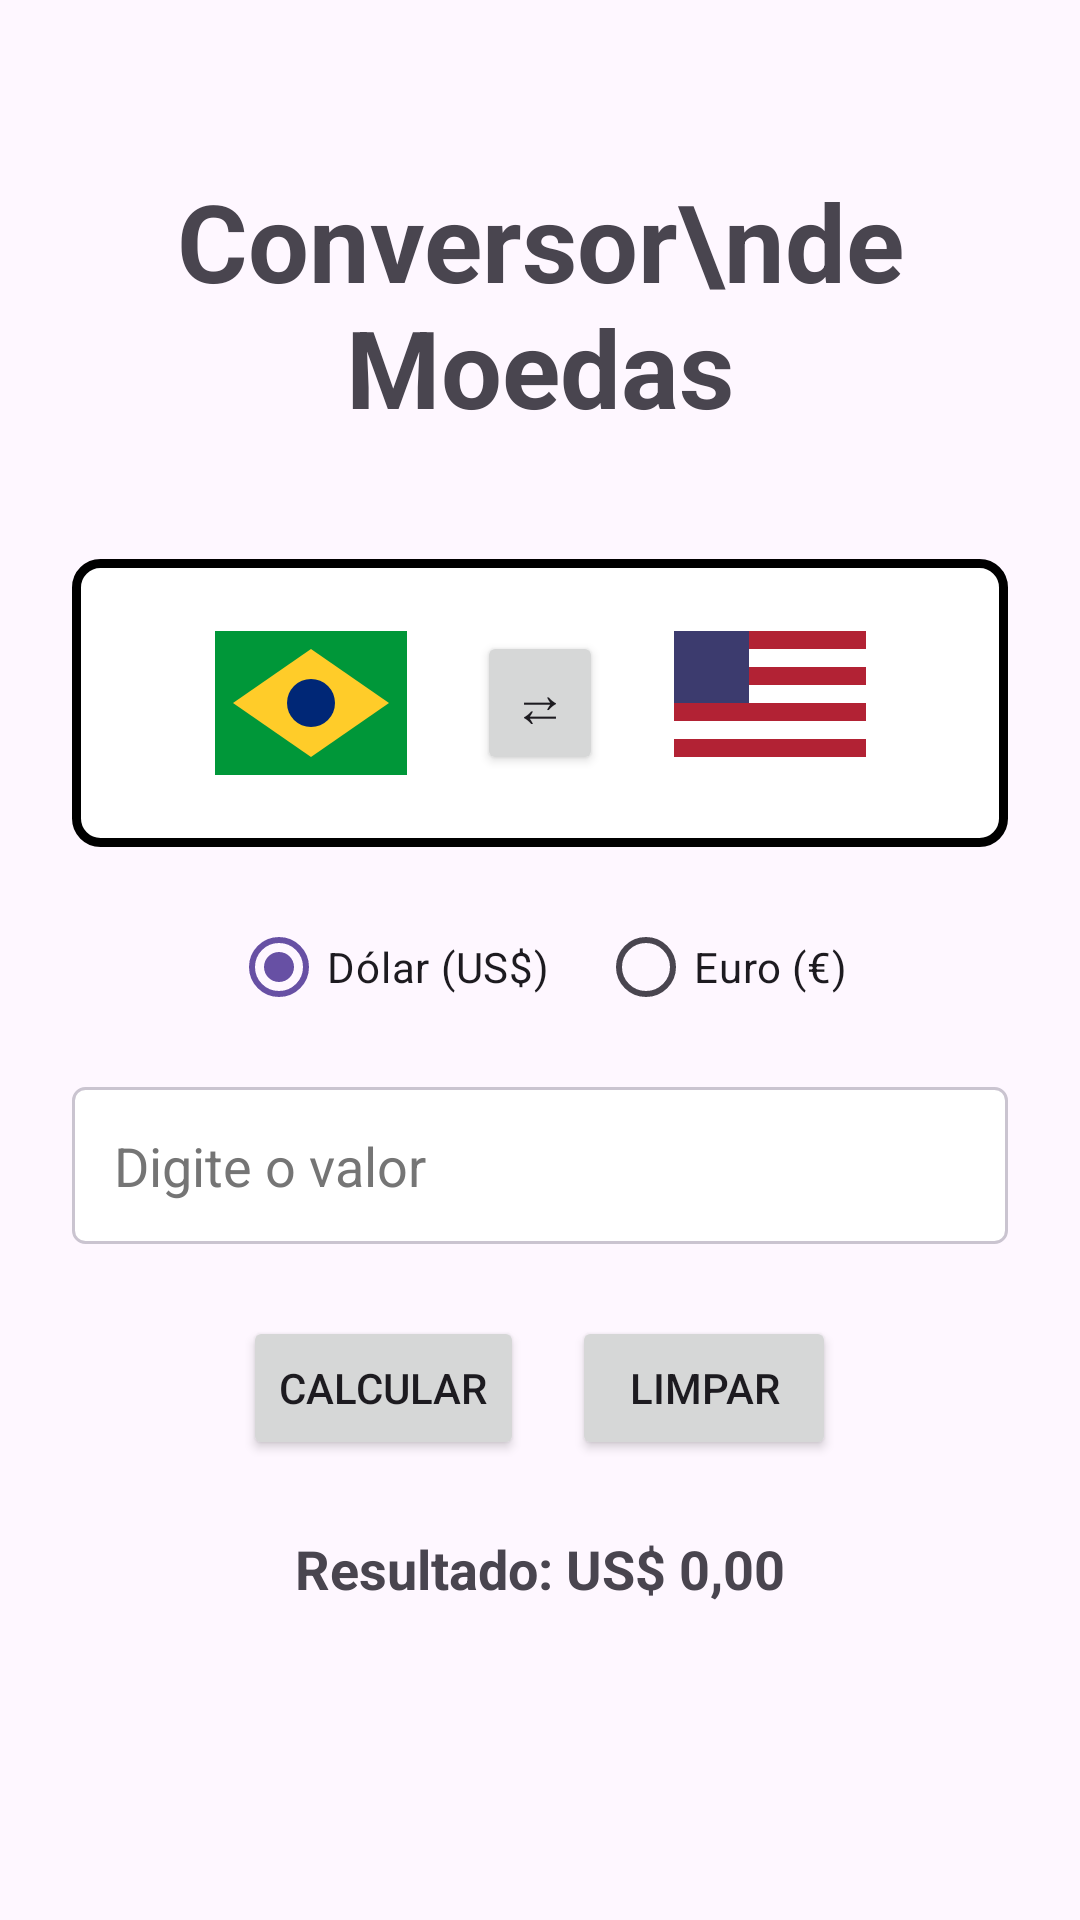

Named icons in this screenshot (1080 x 1920) and their bounding boxes, (x1, y1, x2, y2):
Bandeira da moeda de destino: (674, 631, 866, 757)
Bandeira da moeda de origem: (215, 631, 407, 775)
